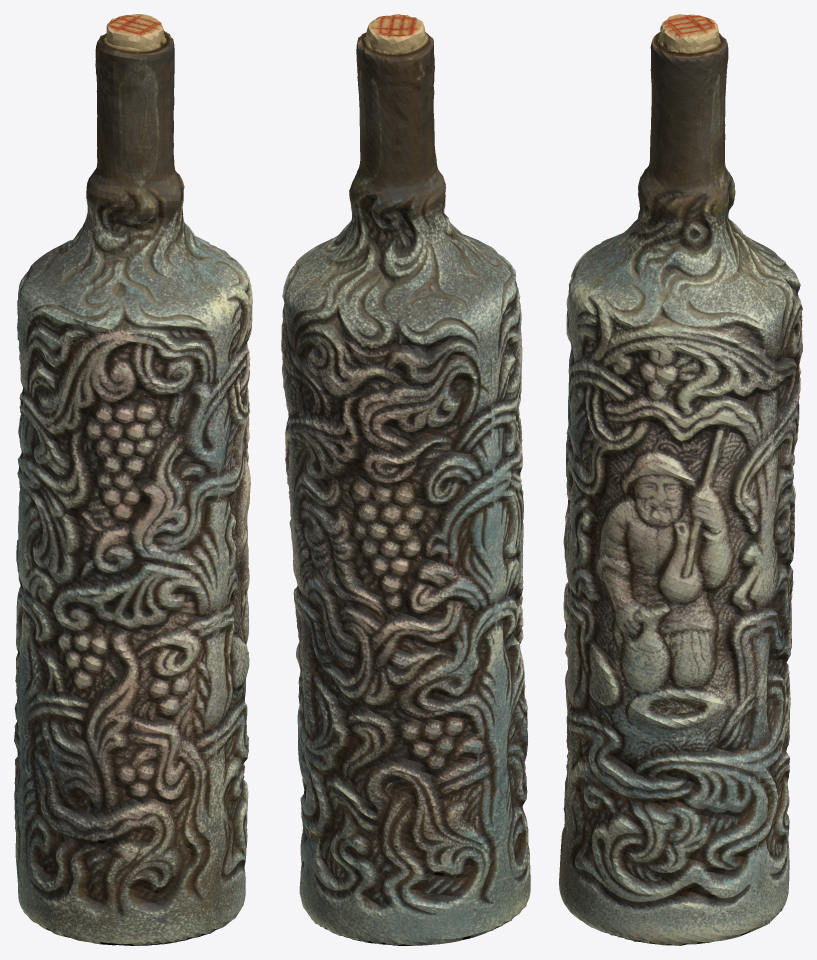
Rendered from Special_bottle.glb.
3 views of the same model, side by side, from view 1: azimuth 30°, elevation 25°; view 2: azimuth 150°, elevation 25°; view 3: azimuth 270°, elevation 25° (orthographic).
Parts seen in each view (by area): view 1: Model; view 2: Model; view 3: Model.
Part boxes in pixels (<box>): Model: <box>14,14,252,945</box>; Model: <box>281,14,530,945</box>; Model: <box>559,14,802,945</box>.
Size of the model in its own units: 1360 by 5412 by 1345.
2 materials, 2 textured.
